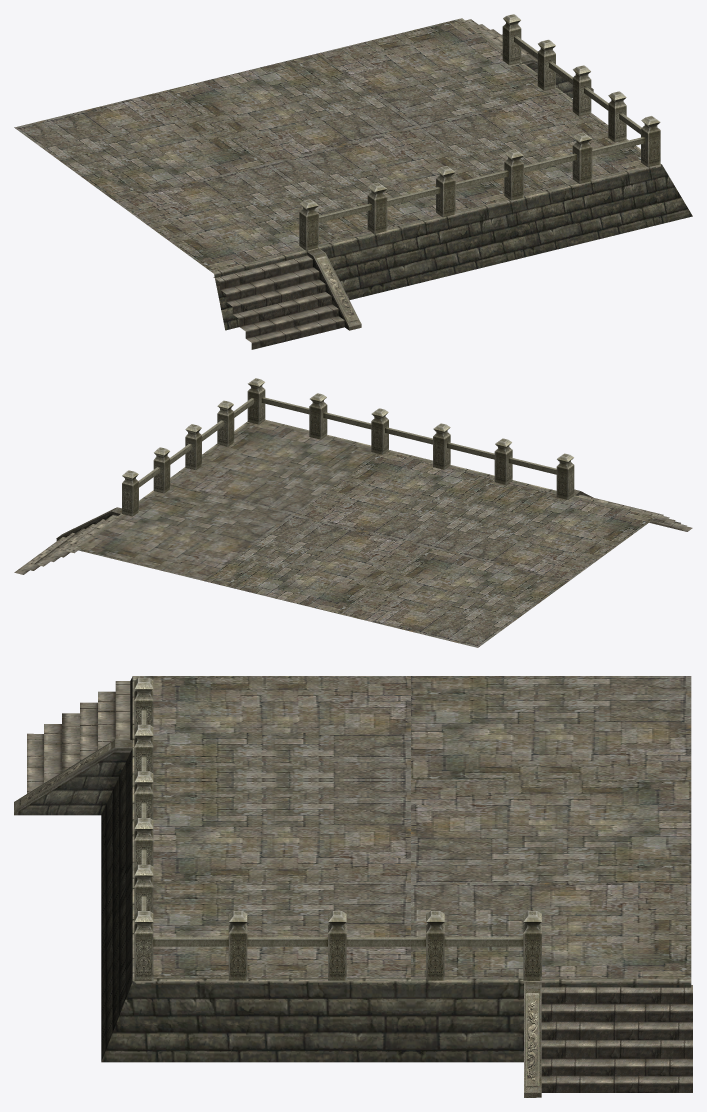
File: ob-tower01_02.glb
3 renders of one model, top to bottom at view 1: azimuth 30°, elevation 25°; view 2: azimuth 150°, elevation 25°; view 3: azimuth 270°, elevation 25°, orthographic. The views are drawn at different scales.
Parts seen in each view (by area): view 1: ob-013-tower01_04; view 2: ob-013-tower01_04; view 3: ob-013-tower01_04.
Boxes of the visible parts, x1,y1,x2,y2 form: ob-013-tower01_04: [14, 14, 692, 349]; ob-013-tower01_04: [14, 378, 692, 647]; ob-013-tower01_04: [14, 676, 692, 1097].
Bounding box in the file's own units: 42.52 × 7.32 × 34.43.
Materials: 1 (1 with a texture image).
